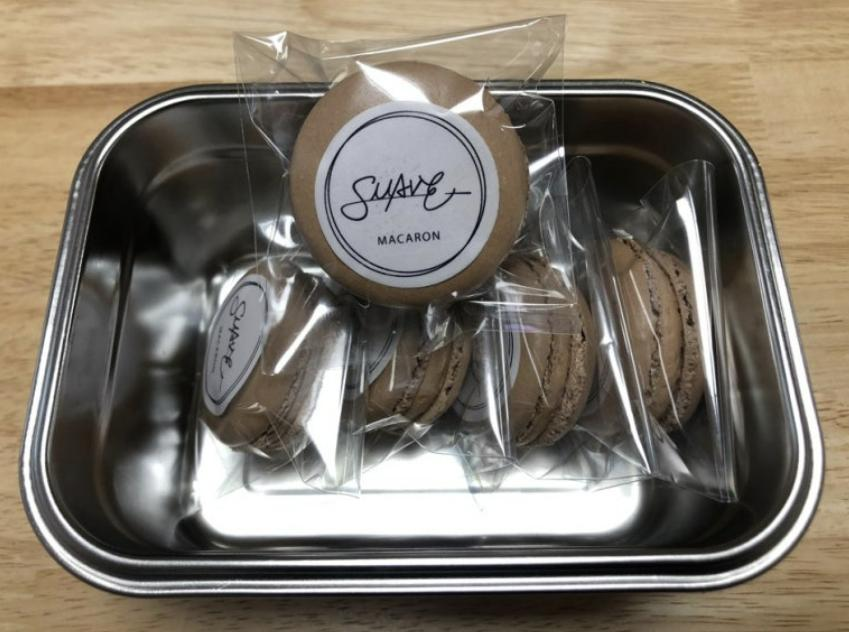Lunch Box: (21, 16, 822, 595)
